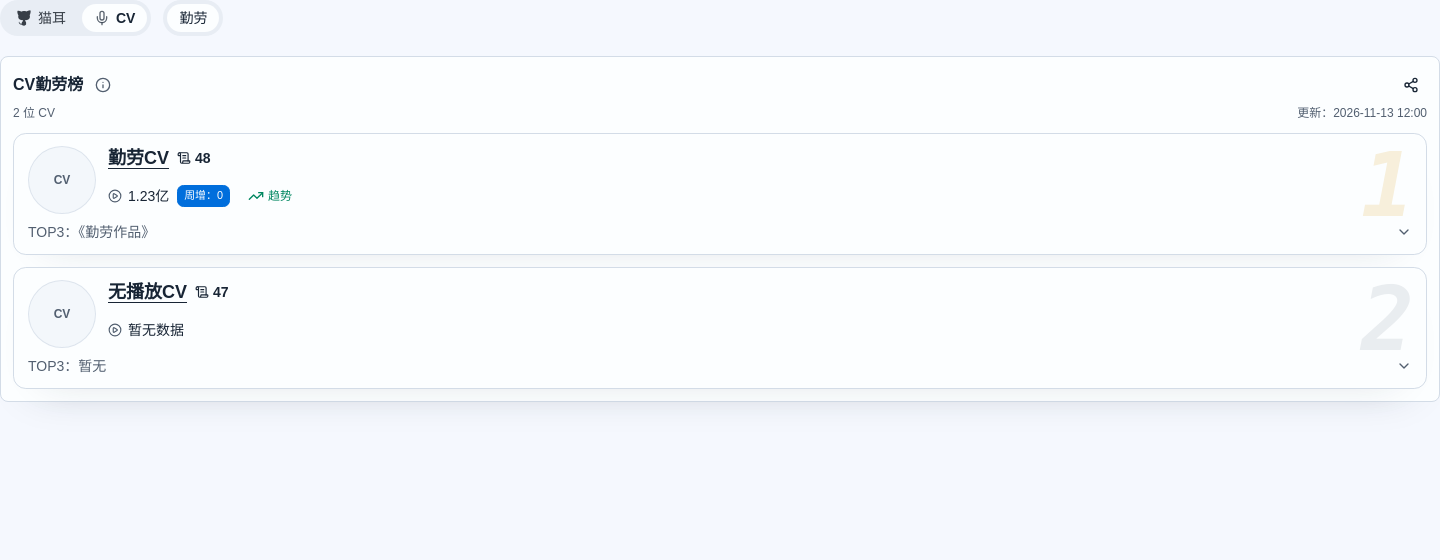
Test: labor rank missevan keeps series counts primary and exposes playback trends
Expected: the element named "总播放量: 暂无数据" is shown, [108,320,184,340]
Expected: the number of icons "周增：0" is 1, [177,185,230,207]
Click the button "勤劳CV" at point(138, 158), box [108,146,169,170]
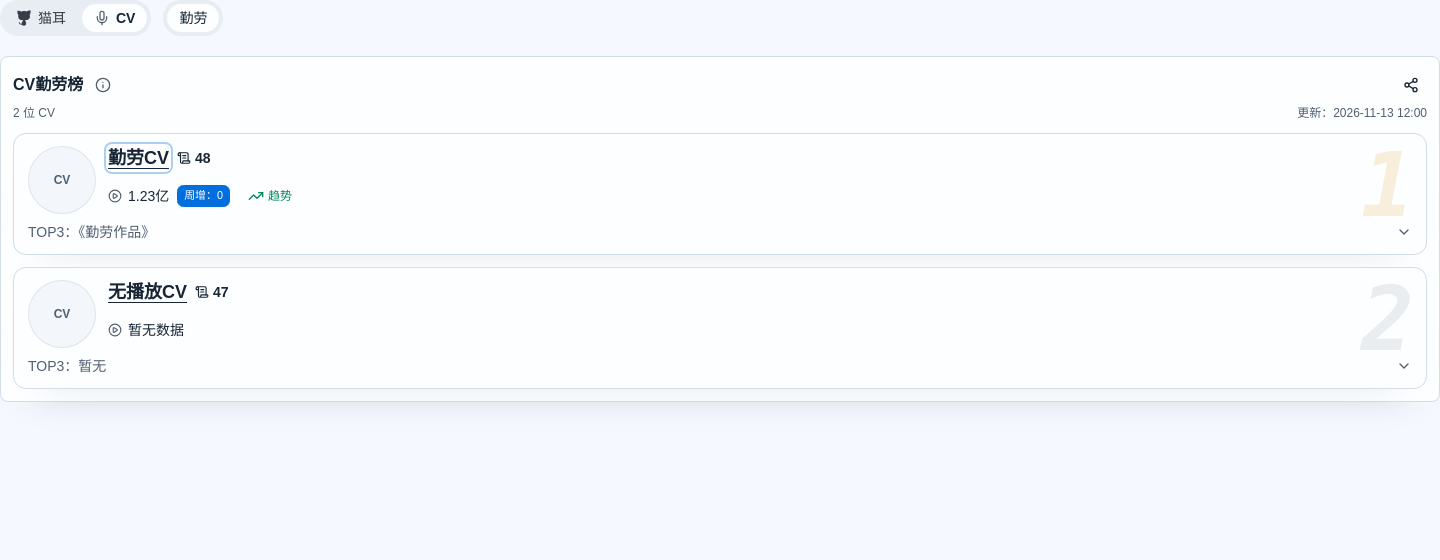
Click the button with aria-label "展开勤劳CV作品列表" at point(92, 232), box [28,222,1412,242]
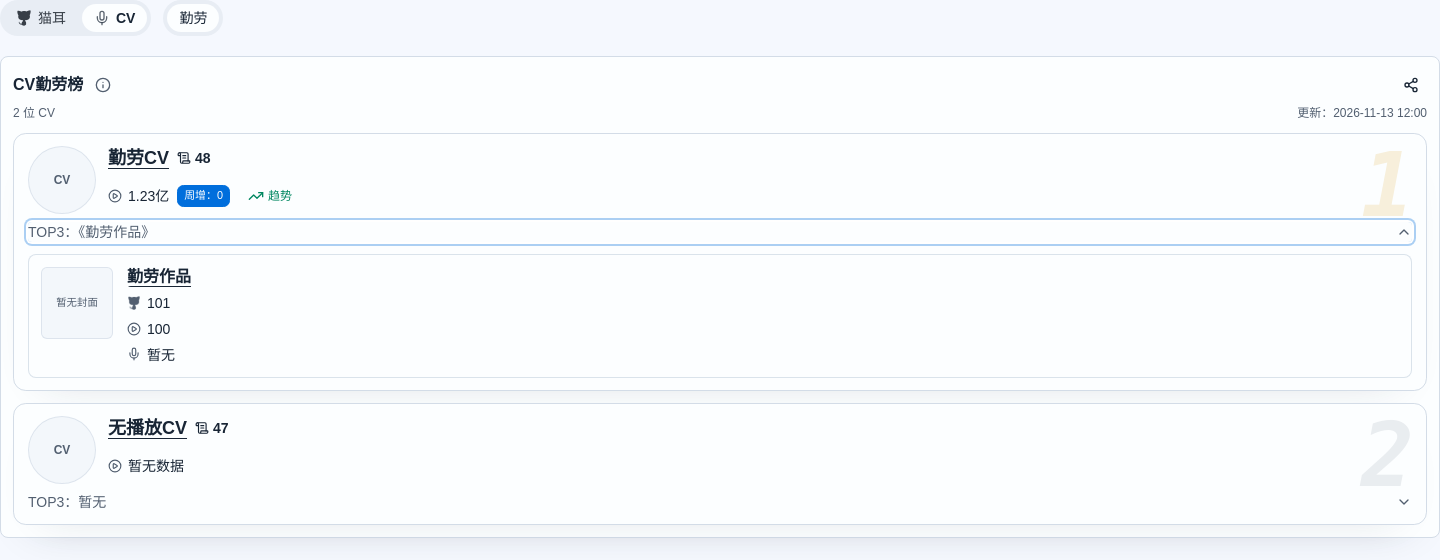
Now the button "勤劳作品" is shown, box [127,267,1399,287]
